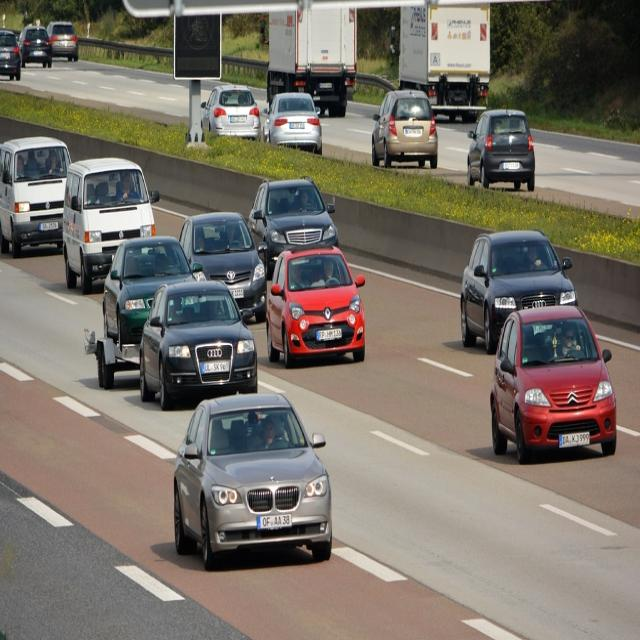Caminhao: (396, 2, 491, 118), (265, 0, 354, 118)
Carro Cinza: (171, 392, 335, 576), (44, 18, 82, 66)
Carro Prata: (261, 93, 325, 157), (200, 88, 264, 146)
Carro Preto: (459, 228, 583, 351), (137, 290, 260, 392), (177, 215, 269, 315), (247, 185, 343, 279), (466, 110, 540, 198), (19, 23, 55, 71), (0, 28, 22, 84)
Carro Vermelho: (486, 306, 621, 468), (266, 246, 367, 364)
Van Branca: (63, 153, 161, 294), (0, 132, 77, 262)
